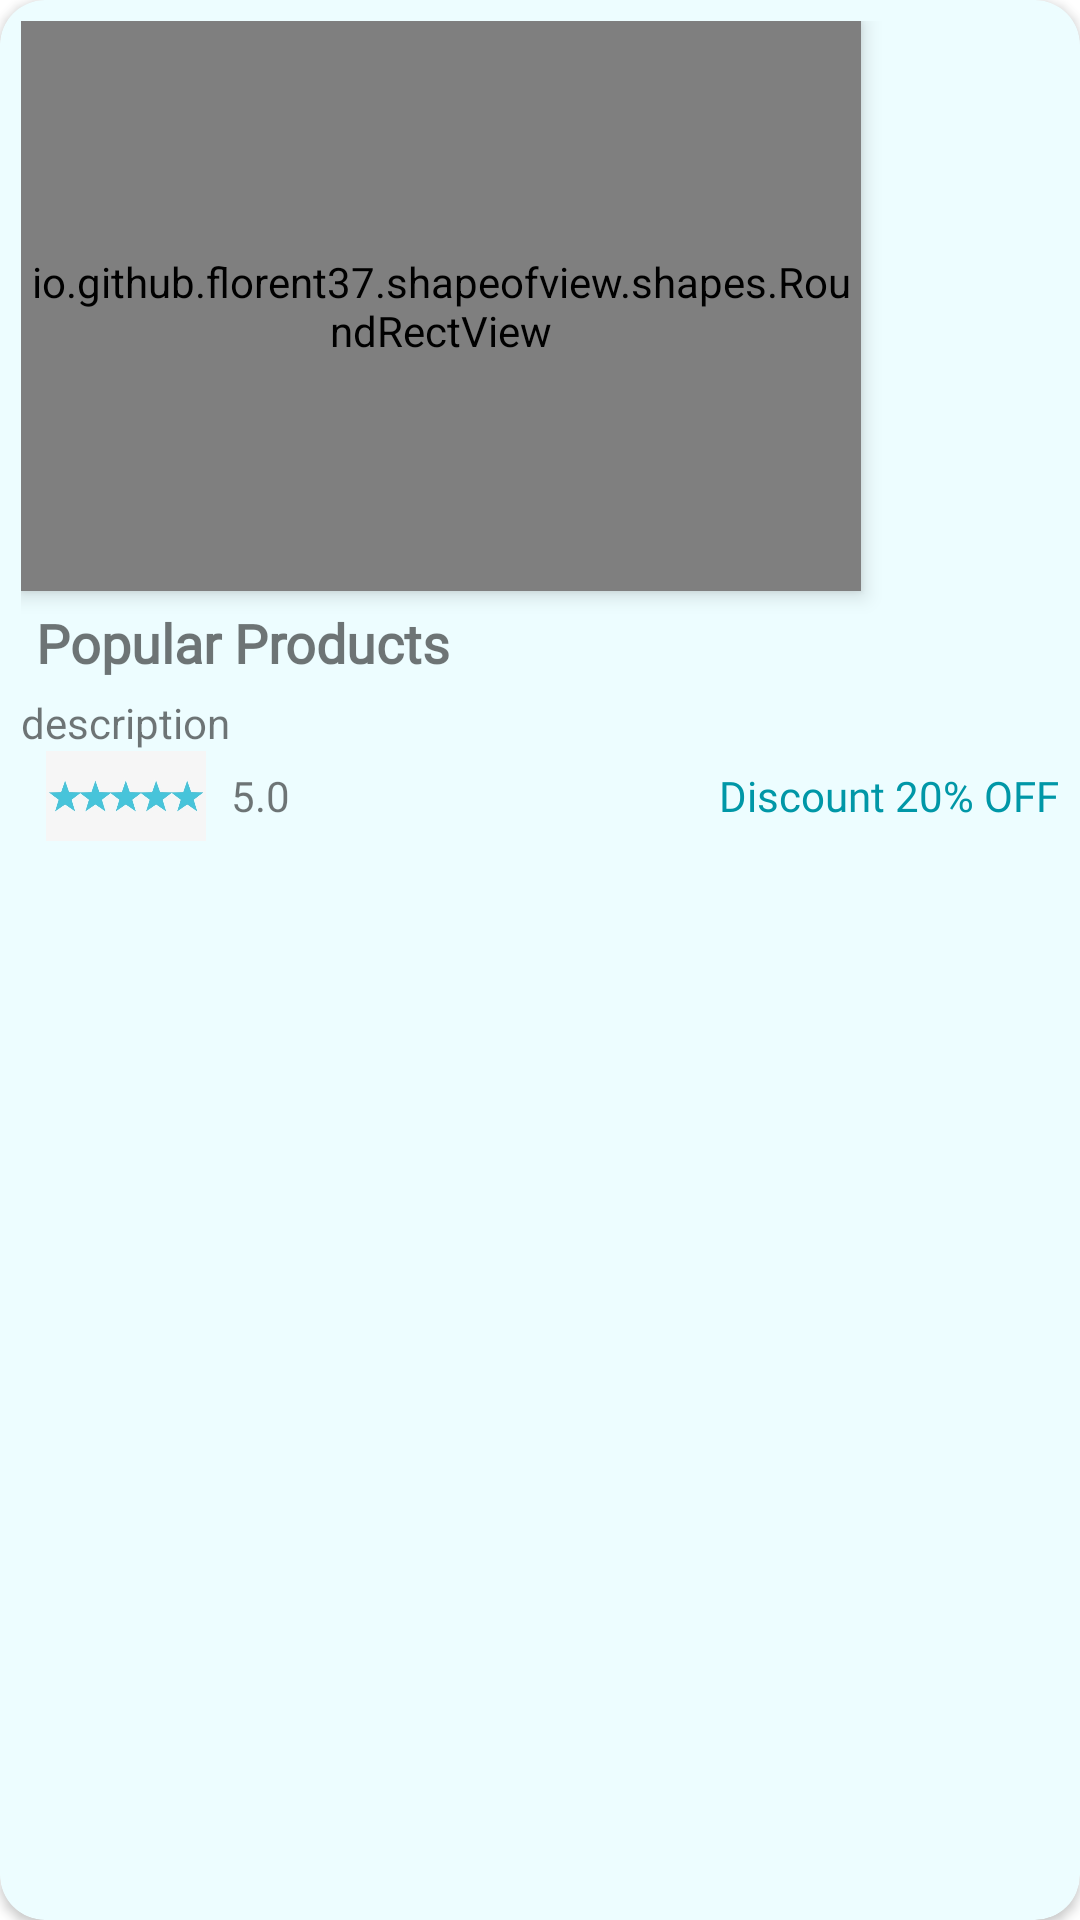

Named icons in this screenshot (1080*1920) and their bounding boxes, (x1, y1, x2, y2):
rate: (46, 751, 206, 841)
